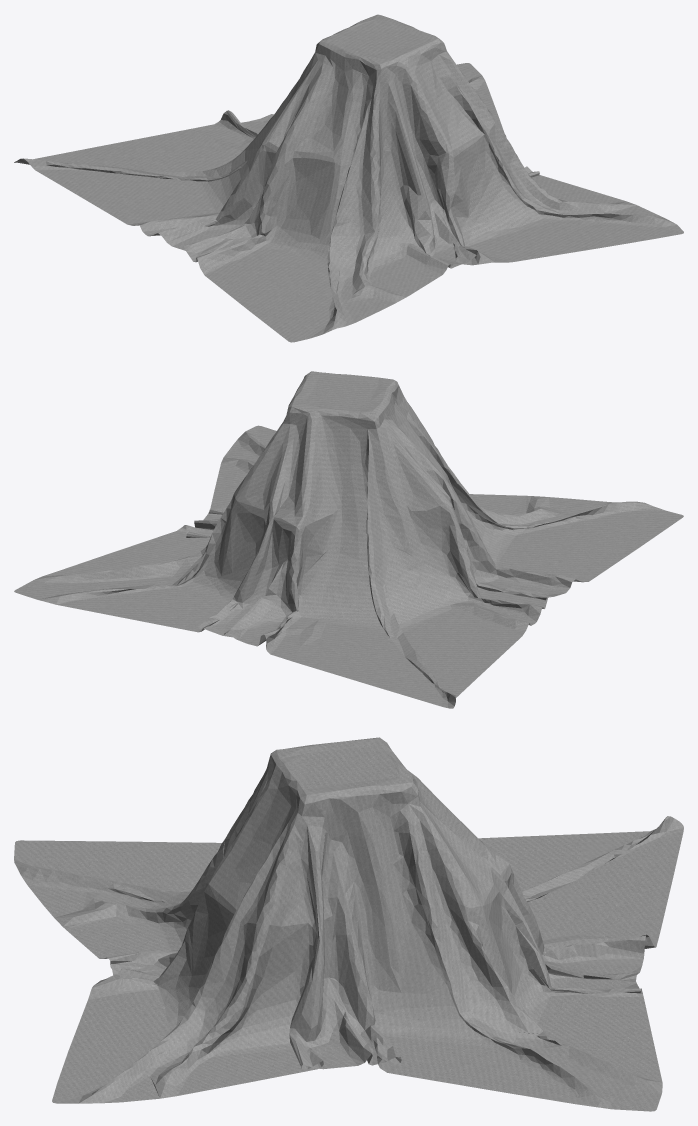
File: Cover2.fbx
3 renders of one model, top to bottom at view 1: azimuth 30°, elevation 25°; view 2: azimuth 150°, elevation 25°; view 3: azimuth 270°, elevation 25°, orthographic. The views are drawn at different scales.
Parts seen in each view (by area): view 1: Plane.025; view 2: Plane.025; view 3: Plane.025.
Part boxes in pixels (bbox=[...]): Plane.025: bbox=[14, 14, 683, 342]; Plane.025: bbox=[14, 371, 683, 708]; Plane.025: bbox=[14, 737, 683, 1111].
Size of the model in its own units: 592 by 205 by 584.
Materials: 1 (1 with a texture image).
